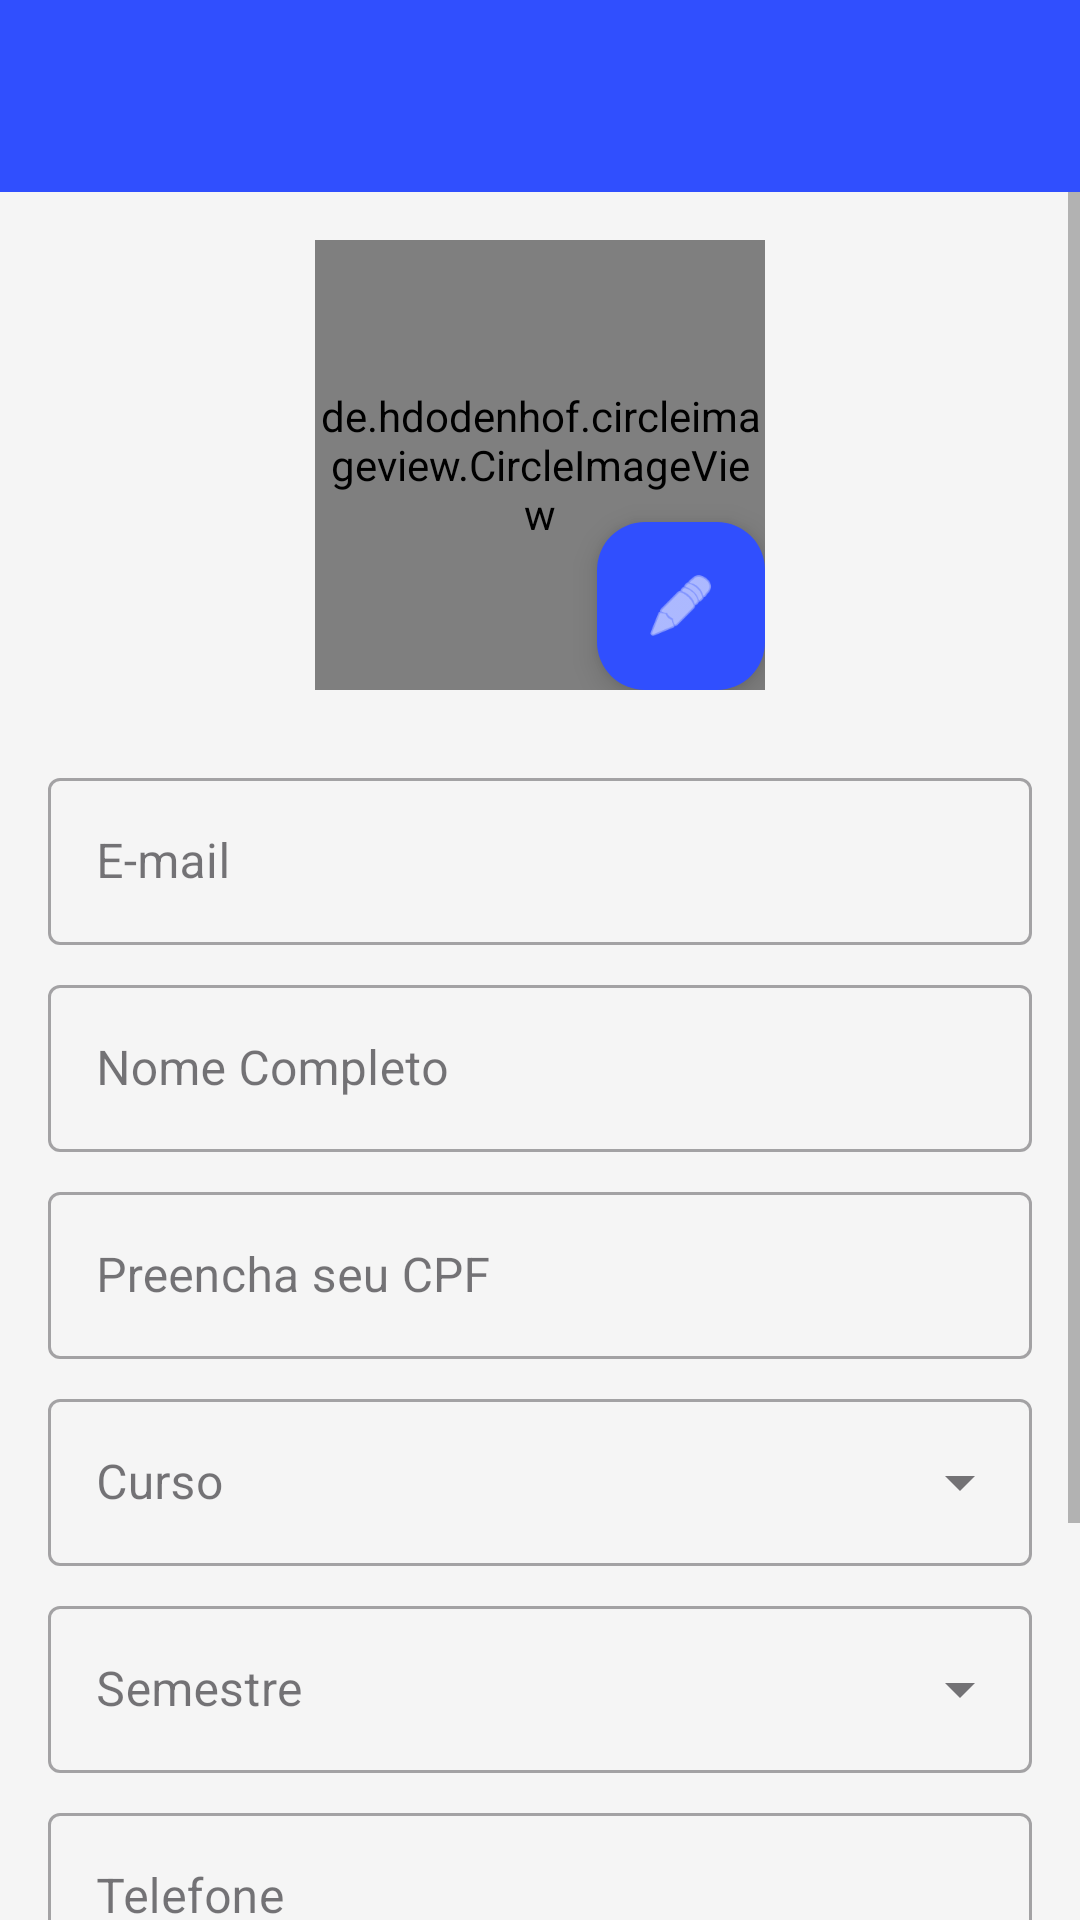

Screen size 1080w x 1920h. Icon name, then its center in pixels as [x,y]:
edit: [681,606]
